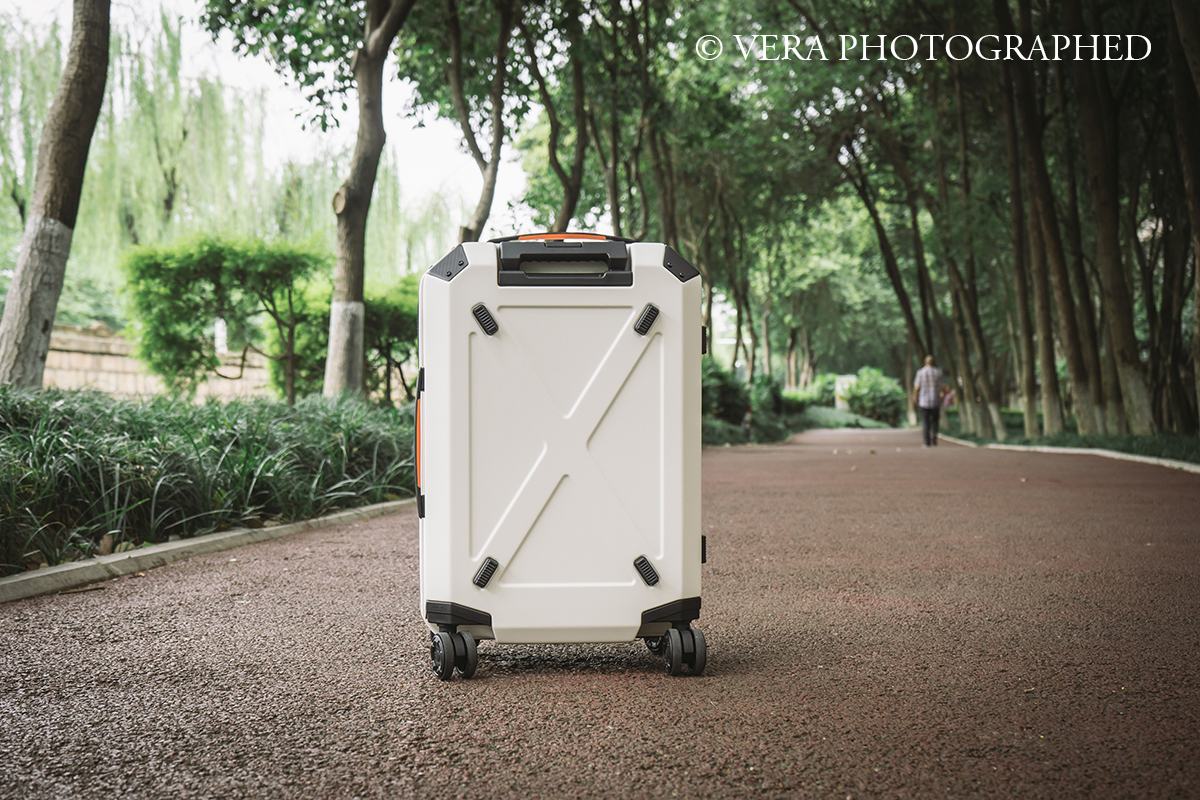box: (421, 241, 702, 644)
handle: (487, 233, 637, 244)
wheel: (430, 631, 479, 681), (662, 627, 708, 677)
